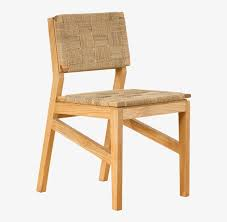tiyarina: (28, 7, 197, 211)
